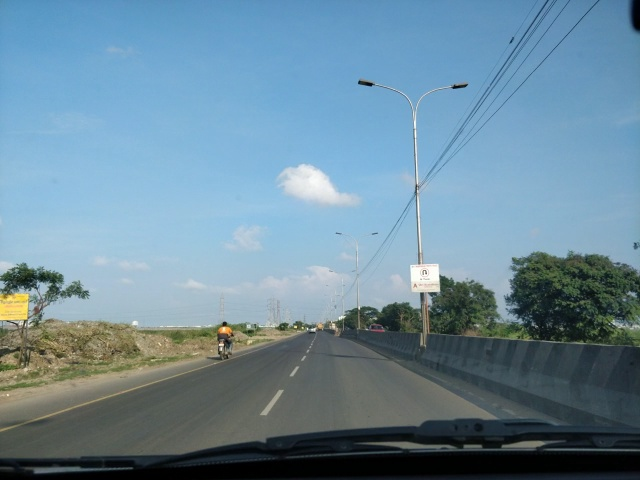car: (366, 320, 387, 338), (306, 323, 319, 335)
motorbike: (213, 317, 235, 363)
